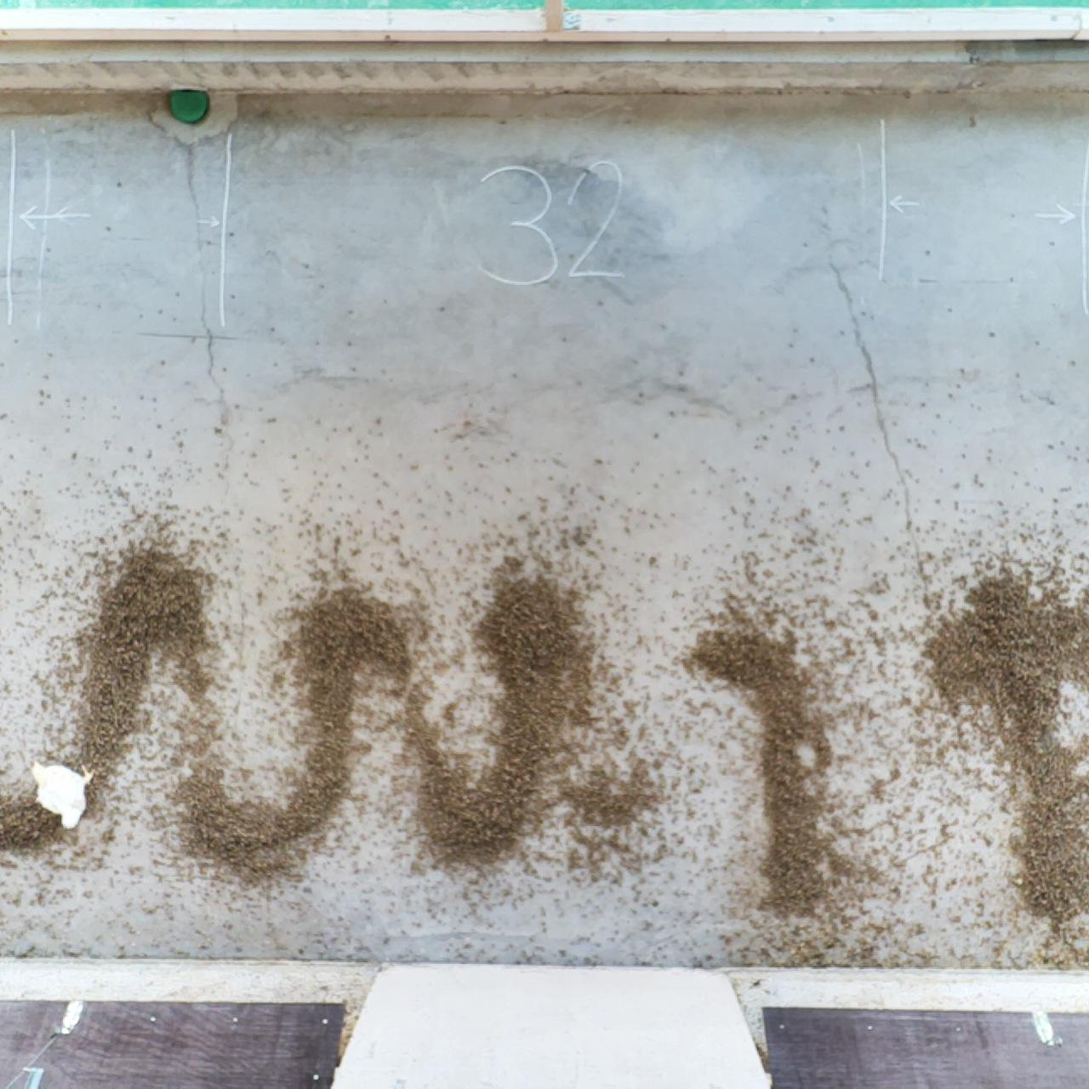chicken: (22, 754, 100, 830)
